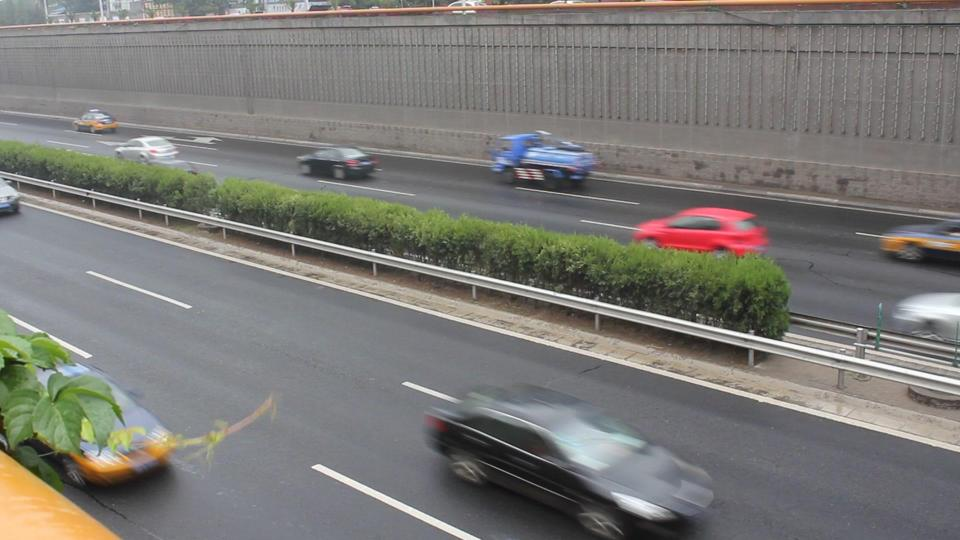car: (420, 383, 716, 540), (30, 373, 184, 493), (630, 208, 766, 257), (890, 291, 960, 362), (879, 219, 960, 264), (297, 146, 383, 179), (116, 136, 181, 164), (74, 108, 120, 134), (0, 177, 22, 215)
truck: (487, 129, 603, 193)
